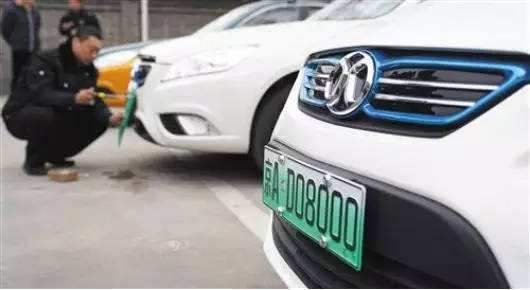plate: (249, 131, 381, 281)
